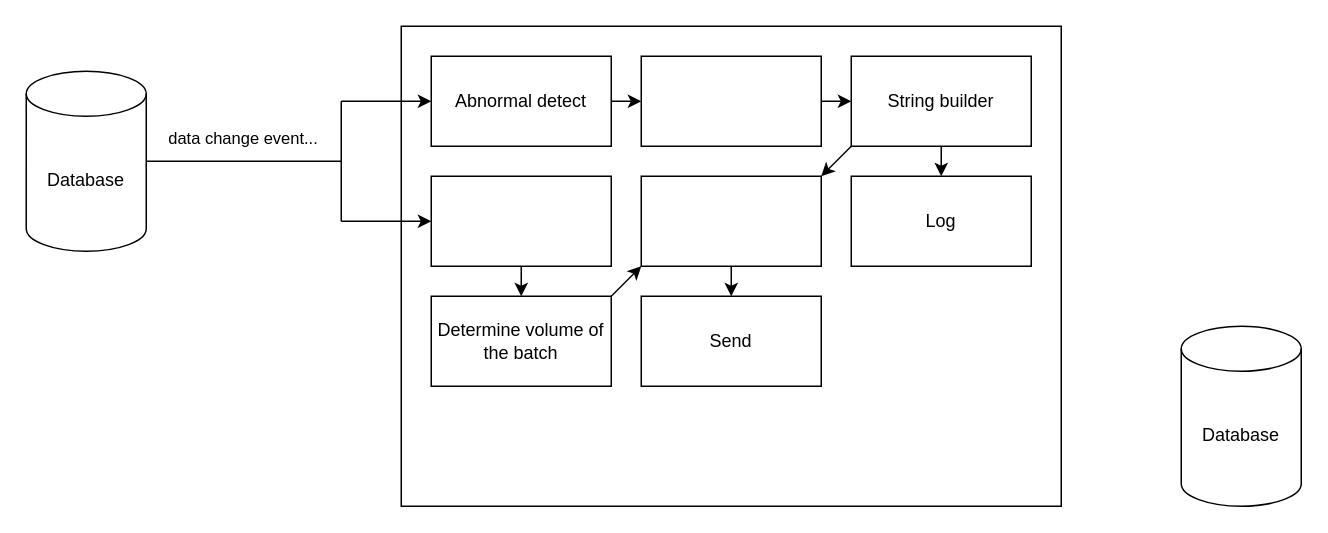
This 1328x533 diagram has some shape labels left out. The shapes that lost their labels are listed below. From the top down, each one's centre as x and y in pixels, then its label:
At point 730,100: "Event parser".
At point 520,220: "Throughput calculate".
At point 730,220: "Batch builder".
